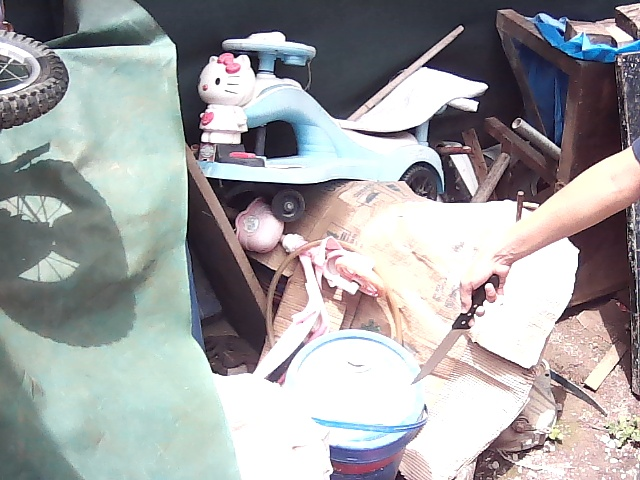cuchillo: (408, 294, 481, 388)
